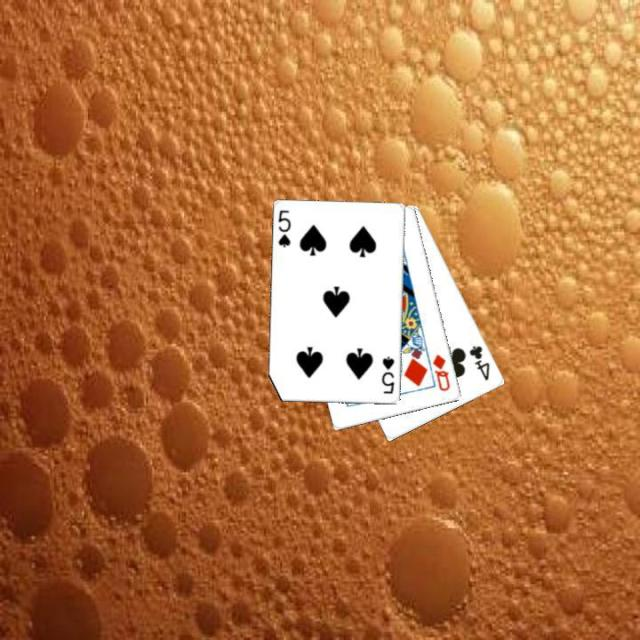4C: (466, 342, 492, 382)
5S: (274, 206, 292, 250), (378, 353, 396, 395)
QD: (428, 350, 452, 393)
